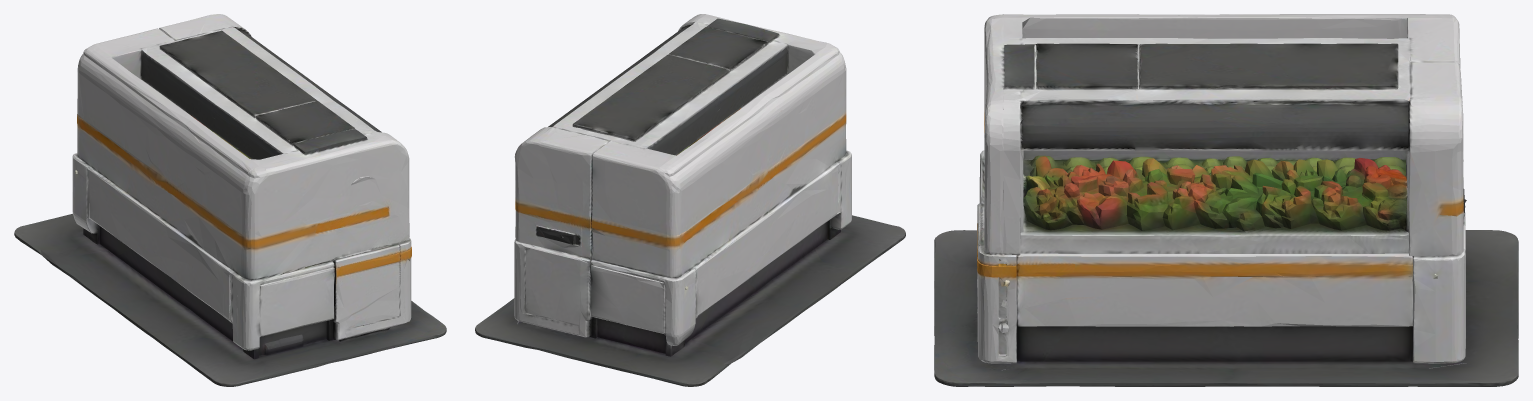
Rendered from compact hydroponic planter 3d model.glb.
The picture shows the model from 3 angles, left to right: view 1: azimuth 30°, elevation 25°; view 2: azimuth 150°, elevation 25°; view 3: azimuth 270°, elevation 25°; orthographic projection. The views are drawn at different scales.
Visible parts, largest first — view 1: tripo_node_d626214d-9963-496a-9947-625d3d78e842; view 2: tripo_node_d626214d-9963-496a-9947-625d3d78e842; view 3: tripo_node_d626214d-9963-496a-9947-625d3d78e842.
Boxes of the visible parts, x1,y1,x2,y2 form: tripo_node_d626214d-9963-496a-9947-625d3d78e842: (14,14,446,386); tripo_node_d626214d-9963-496a-9947-625d3d78e842: (475,14,905,386); tripo_node_d626214d-9963-496a-9947-625d3d78e842: (934,14,1518,386).
Size of the model in its own units: 0.618 by 0.4968 by 1.
1 material, 1 textured.
